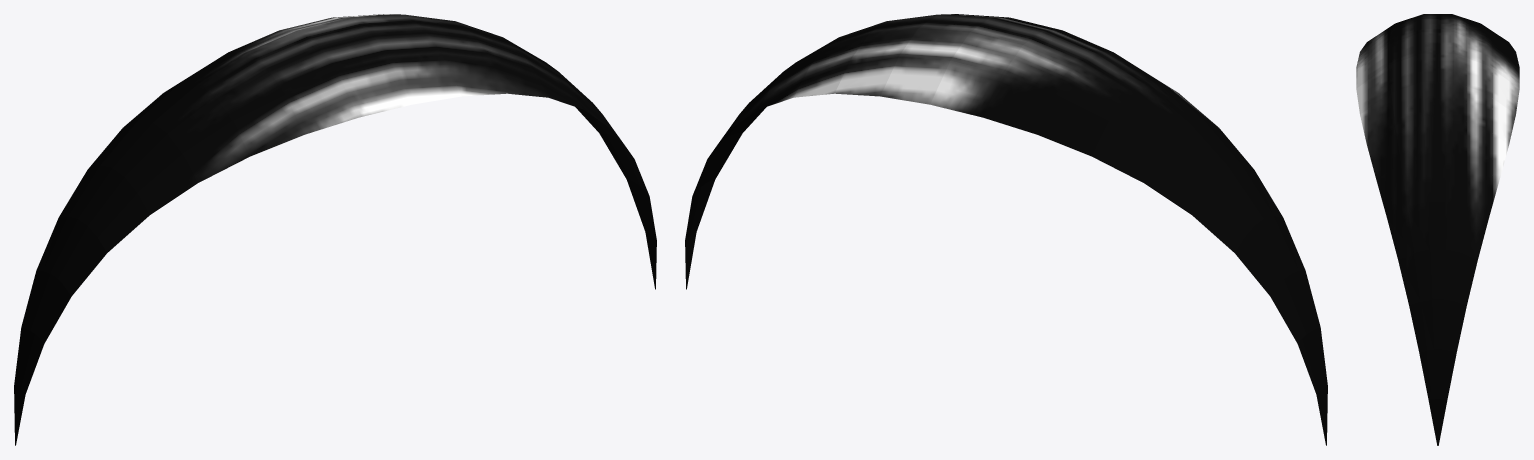
Rendered from 0237_blacktail.glb.
3 views of the same model, side by side, from view 1: azimuth 30°, elevation 25°; view 2: azimuth 150°, elevation 25°; view 3: azimuth 270°, elevation 25° (orthographic). The views are drawn at different scales.
Bounding box in the file's own units: 2.2 × 1.1 × 0.5943.
Materials: 1 (1 with a texture image).
